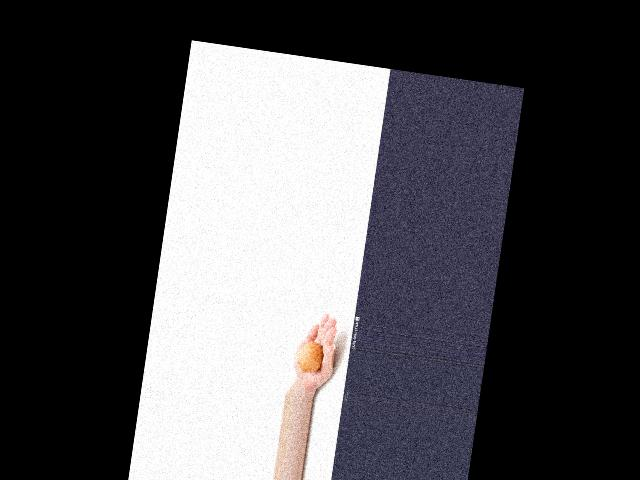egg: (295, 340, 324, 375)
